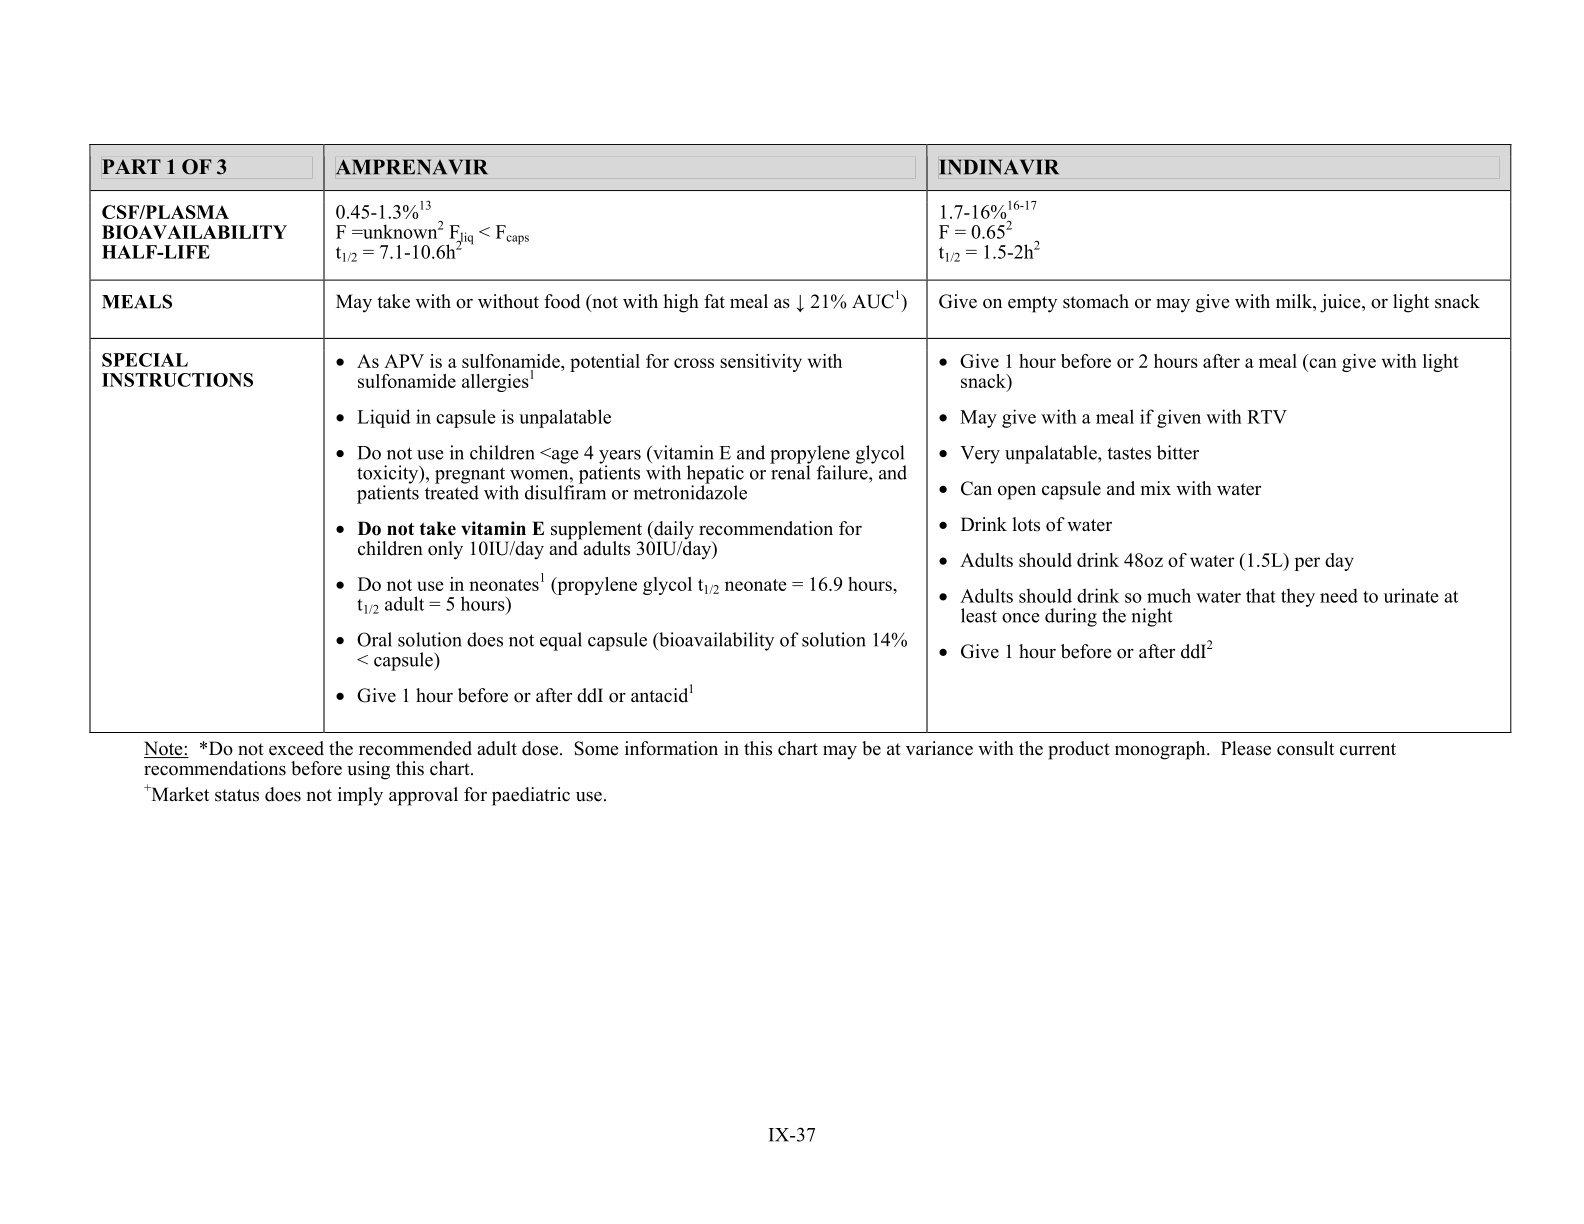full_lined: (89, 143, 1512, 734)
